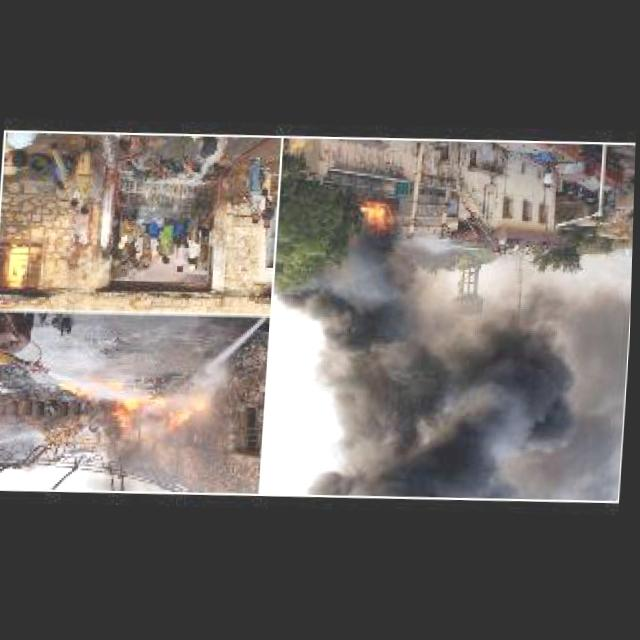Fire: (0, 240, 49, 291), (167, 392, 214, 443), (355, 200, 405, 239), (111, 395, 155, 433)
Smoke: (295, 242, 634, 510)
